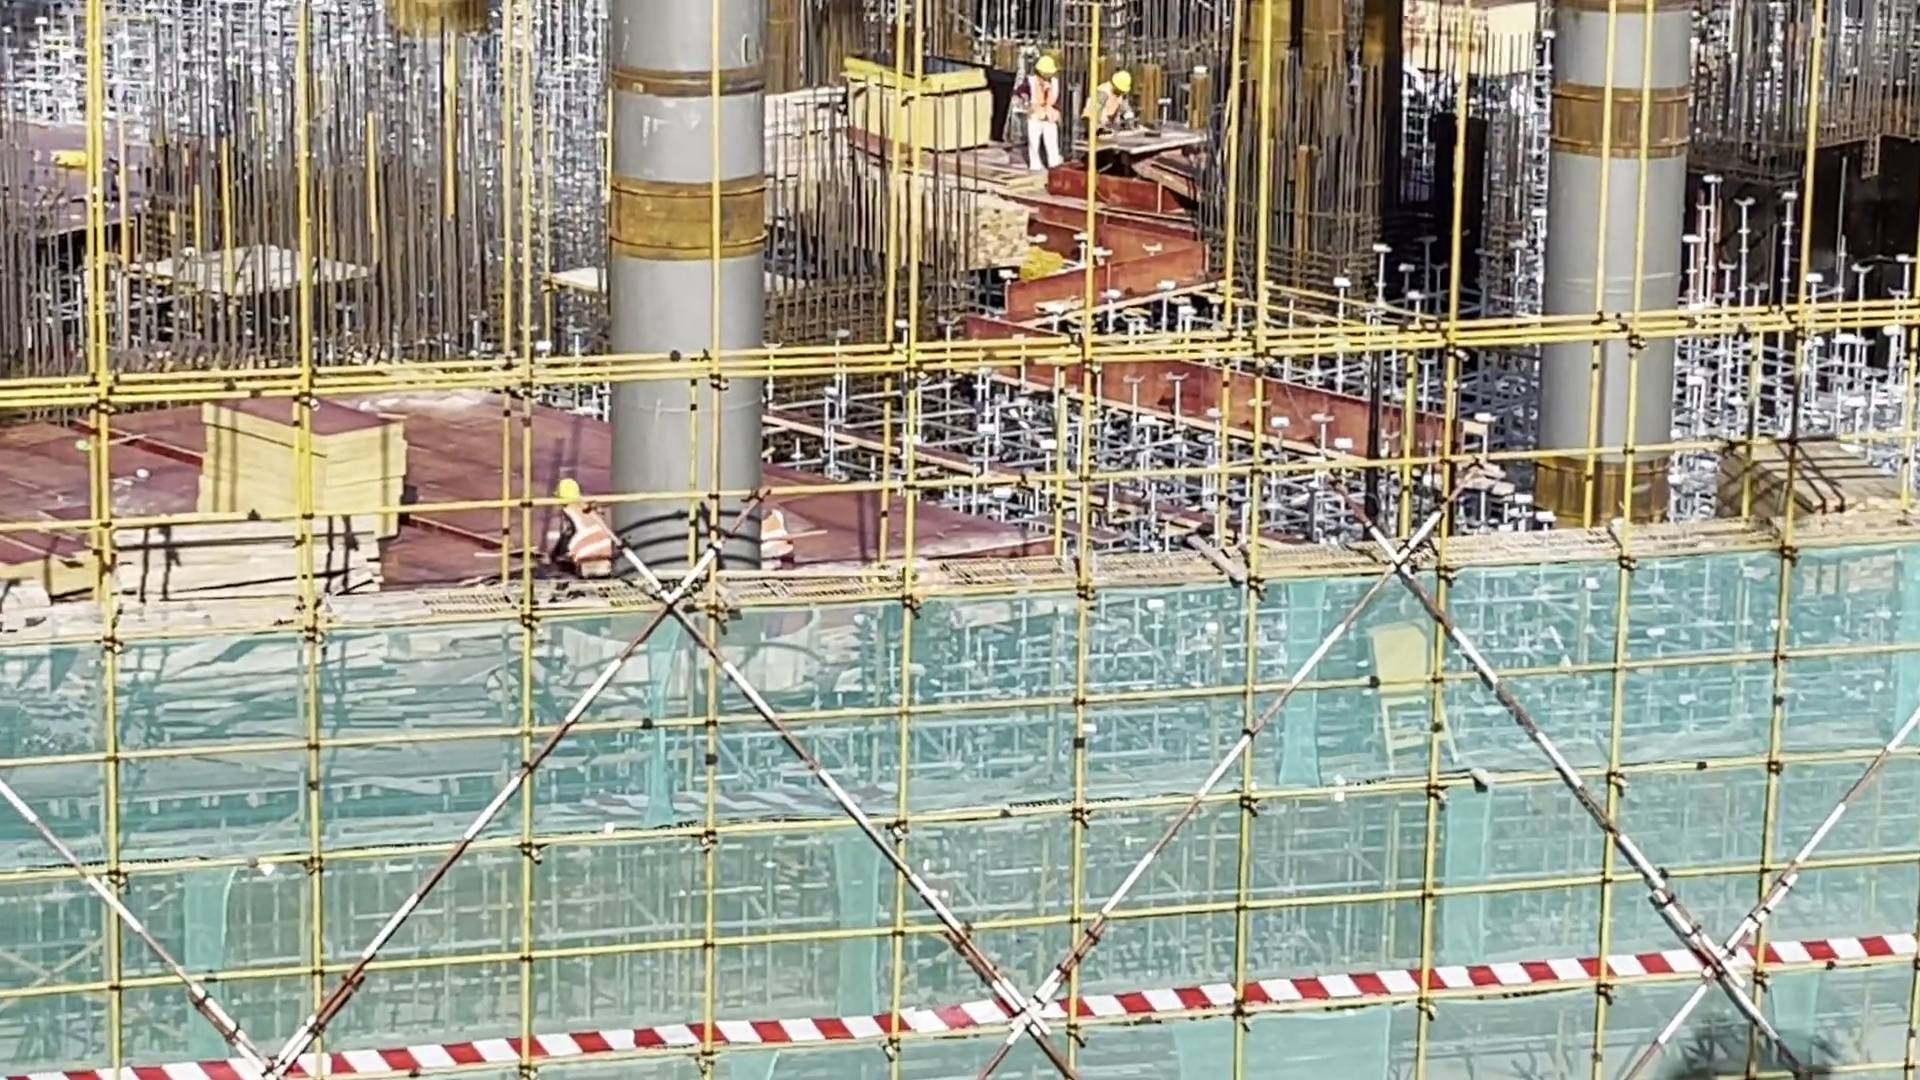board: (191, 386, 406, 559), (1718, 419, 1920, 541), (840, 44, 1000, 161)
ebox: (1361, 621, 1469, 784)
helmet: (556, 478, 584, 506), (1035, 51, 1062, 82), (1111, 70, 1136, 97)
person: (537, 472, 629, 605), (1016, 44, 1066, 177), (1083, 65, 1130, 144)
vest: (558, 496, 617, 587), (752, 503, 805, 580), (1019, 74, 1067, 124), (1090, 84, 1130, 140)
wood: (81, 492, 369, 652)
